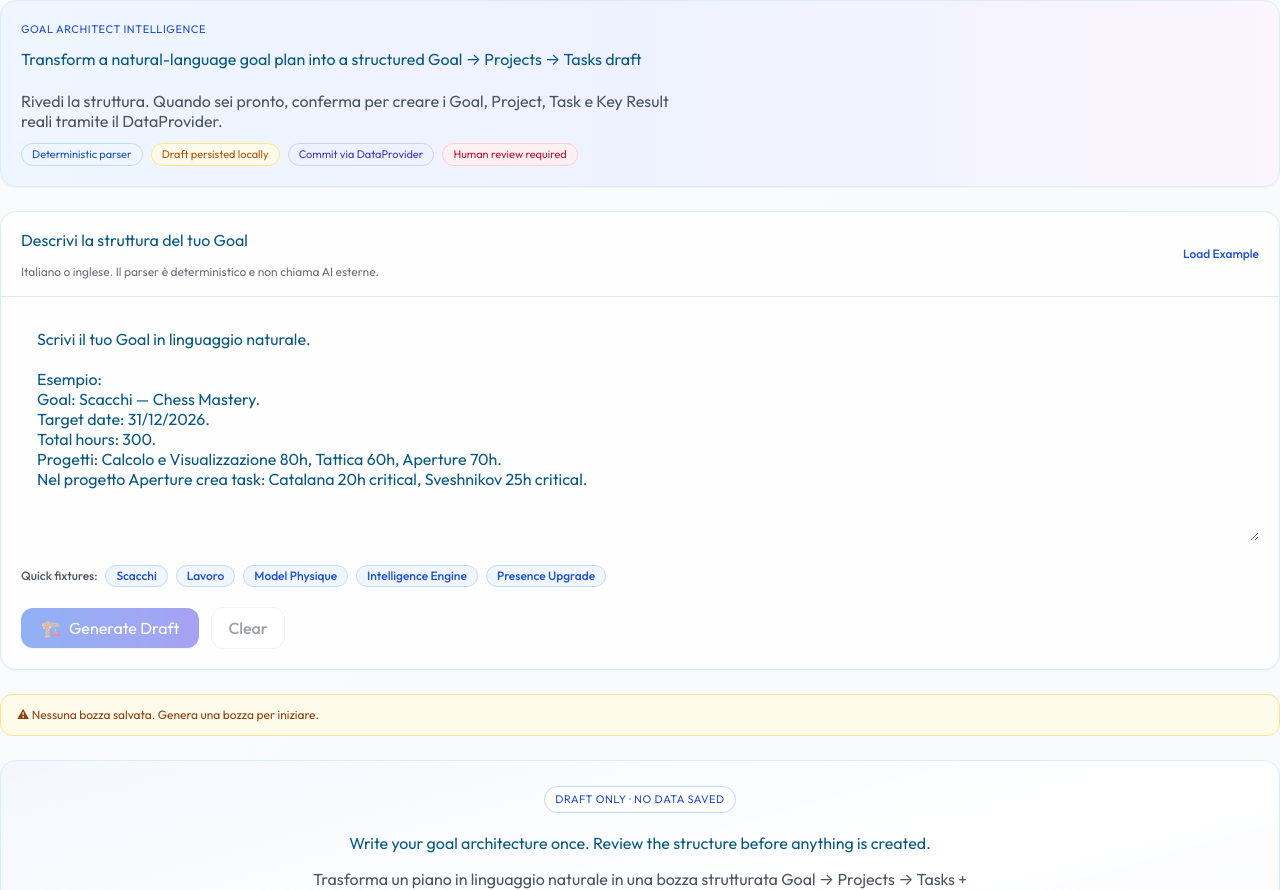
GoalArchitectView — persistence › saves the draft to localStorage on Generate
What coordinates should you click on to do the following:
click the button with test id "goal-architect-chip-chess"
I would click on:
 (137, 576)
Its box is [106,565,168,587].
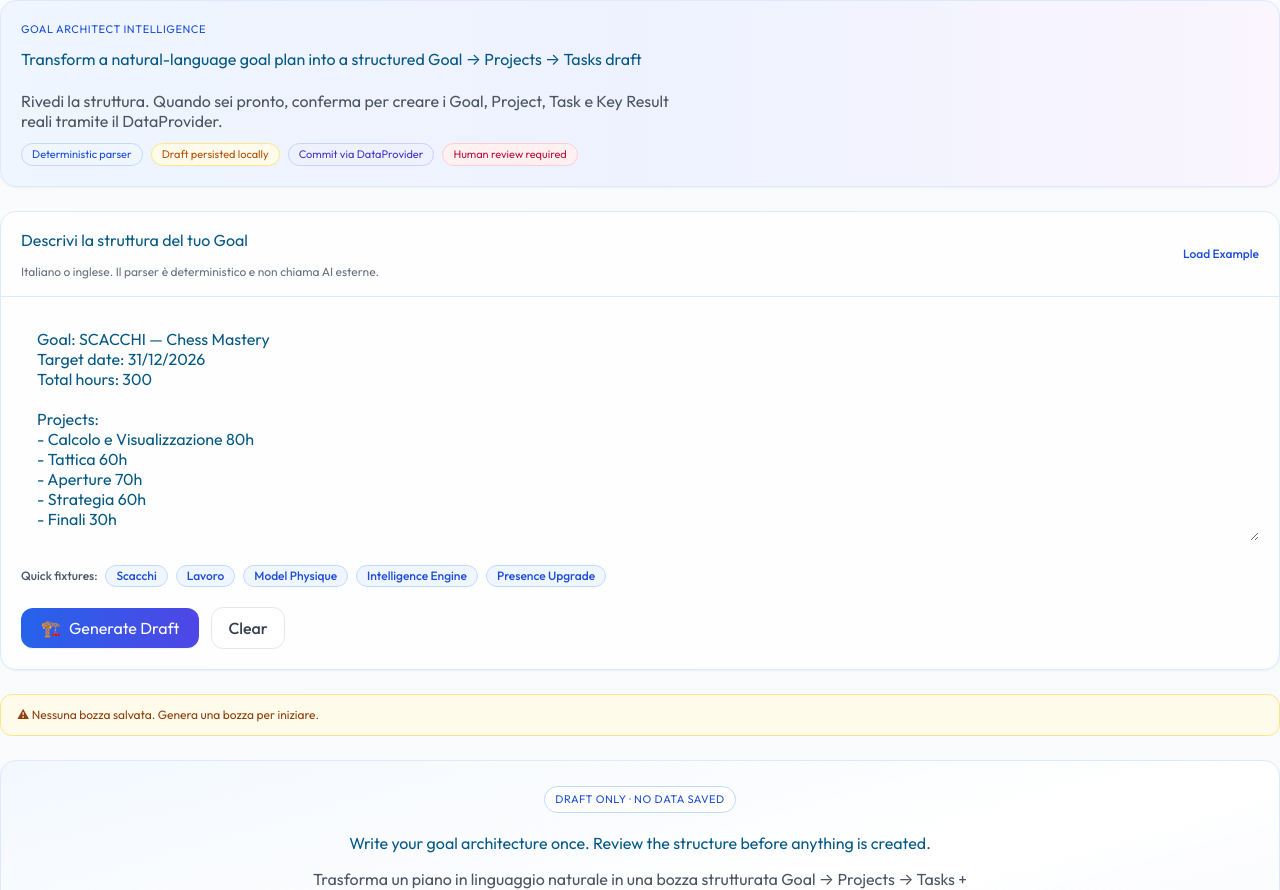
What coordinates should you click on to do the following:
click the button with test id "goal-architect-generate"
I would click on:
 (110, 628)
Its box is [21,608,199,648].
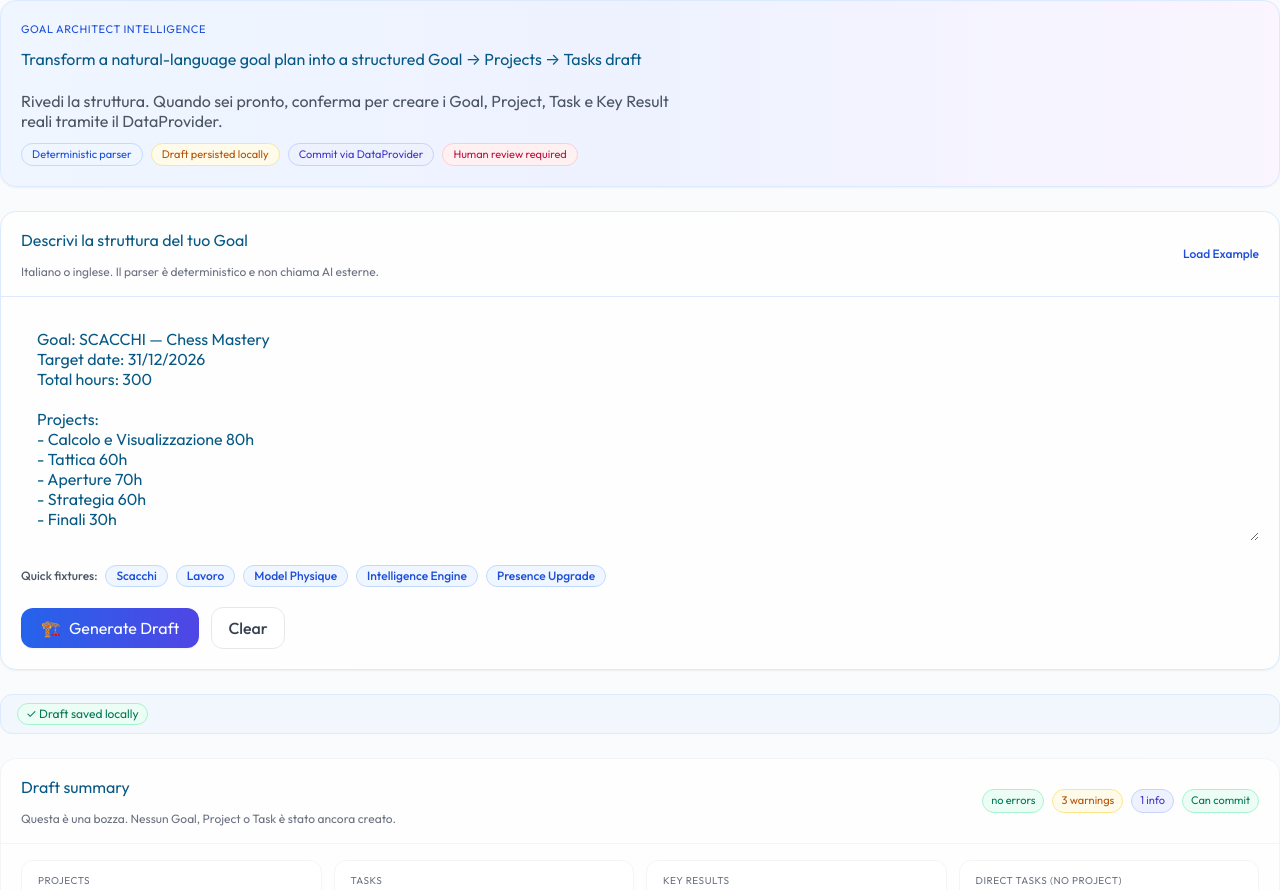
Result: the text "✓ Draft saved locally" is shown at [17,703,148,725]
